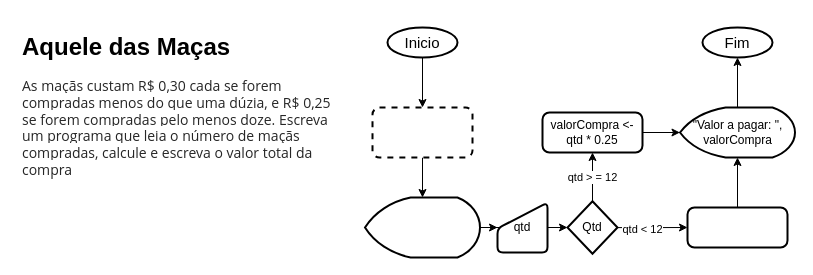
Image size: 813x275. Some labels were removed from this diagram. Each missing label, with the centre of its shape:
"Quantas maças foram compradas?": [422,227]
qtd: inteiro valorCompra: real: [422,132]
valorCompra <- qtd * 0.30: [737,227]
